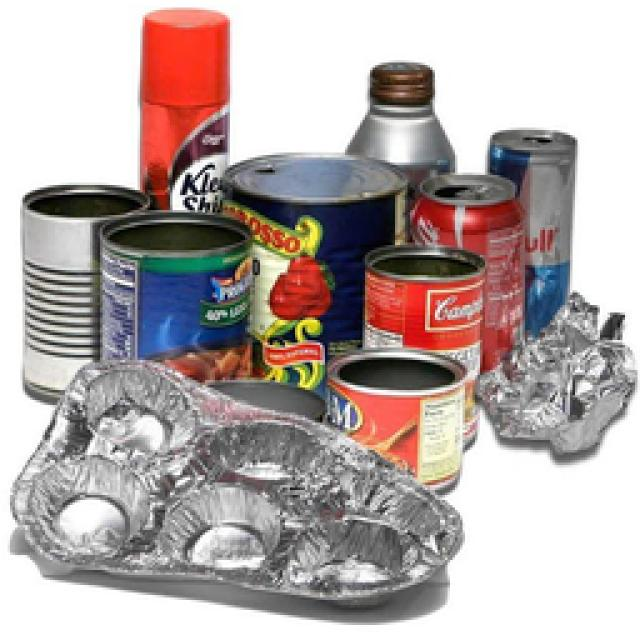alumunium: (12, 10, 628, 598)
